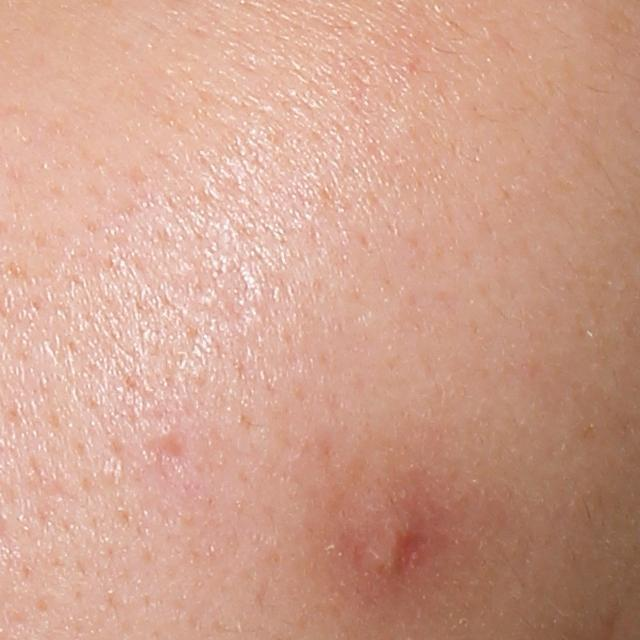atrophic_scar: (142, 431, 194, 464)
